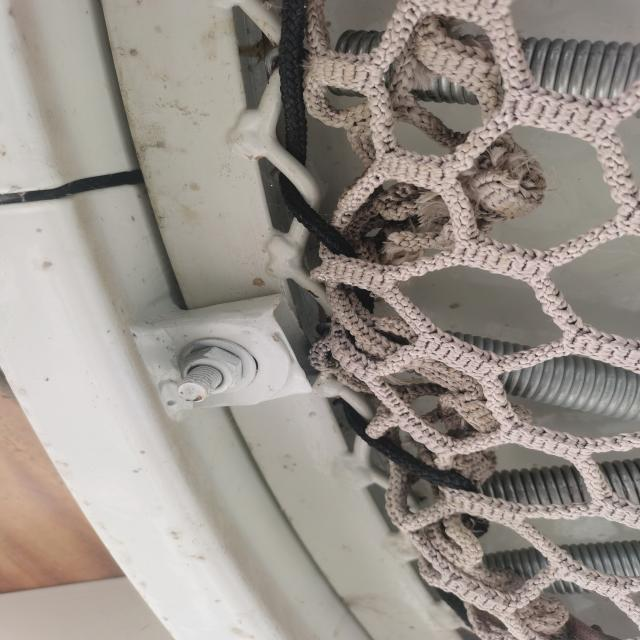bolt nut: (176, 345, 245, 397)
